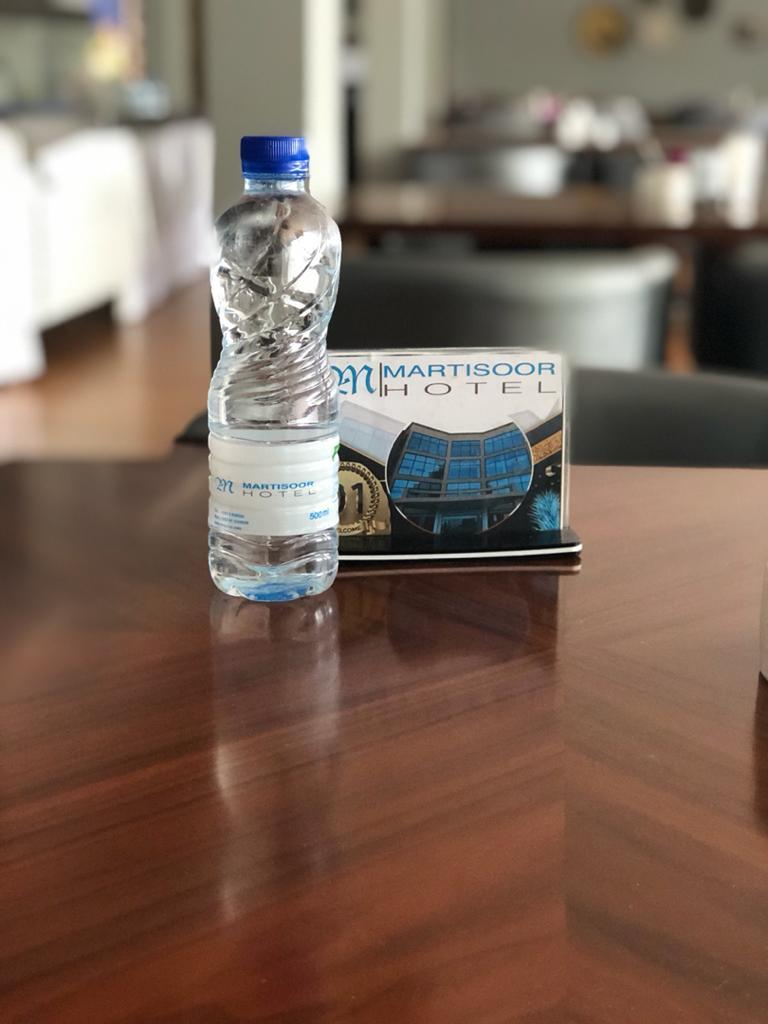plastic_bottle: (195, 128, 353, 614)
